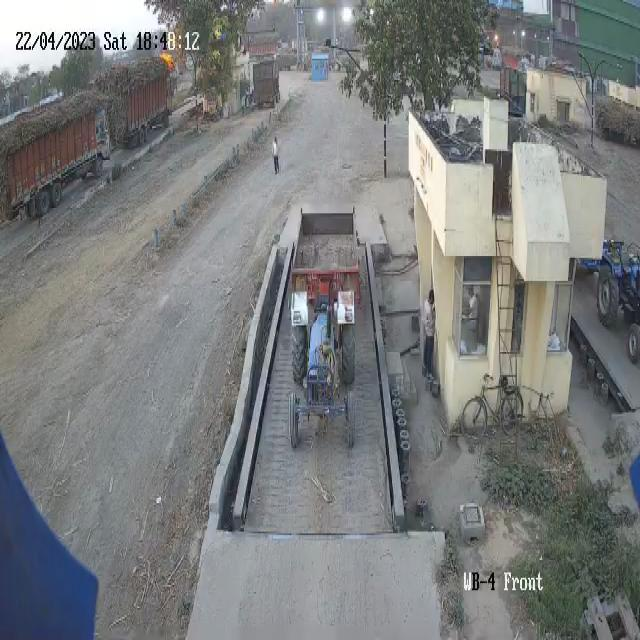Tratores - v5 YOLO V8L 2024-11-13: (284, 281, 364, 458), (594, 232, 640, 368)
